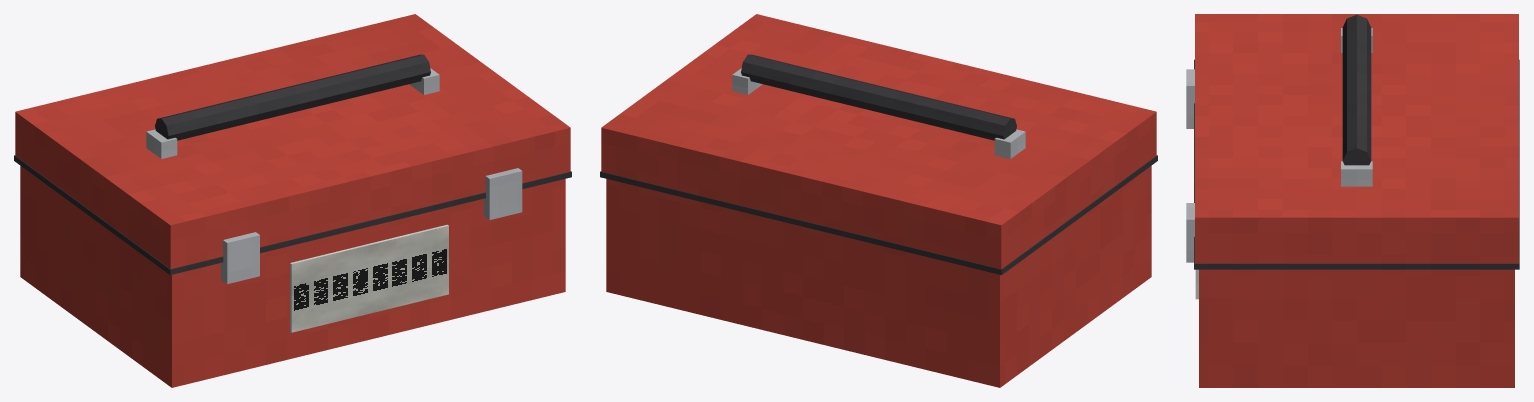
Rendered from item_supply_box.glb.
3 renders of one model, left to right at view 1: azimuth 30°, elevation 25°; view 2: azimuth 150°, elevation 25°; view 3: azimuth 270°, elevation 25°, orthographic. The views are drawn at different scales.
Parts seen in each view (by area): view 1: box; view 2: box; view 3: box.
Part boxes in pixels (<box>): box: <box>14,14,571,387</box>; box: <box>600,14,1157,387</box>; box: <box>1186,14,1519,387</box>.
Size of the model in its own units: 0.306 by 0.144 by 0.211.
Materials: 5 (5 with a texture image).
